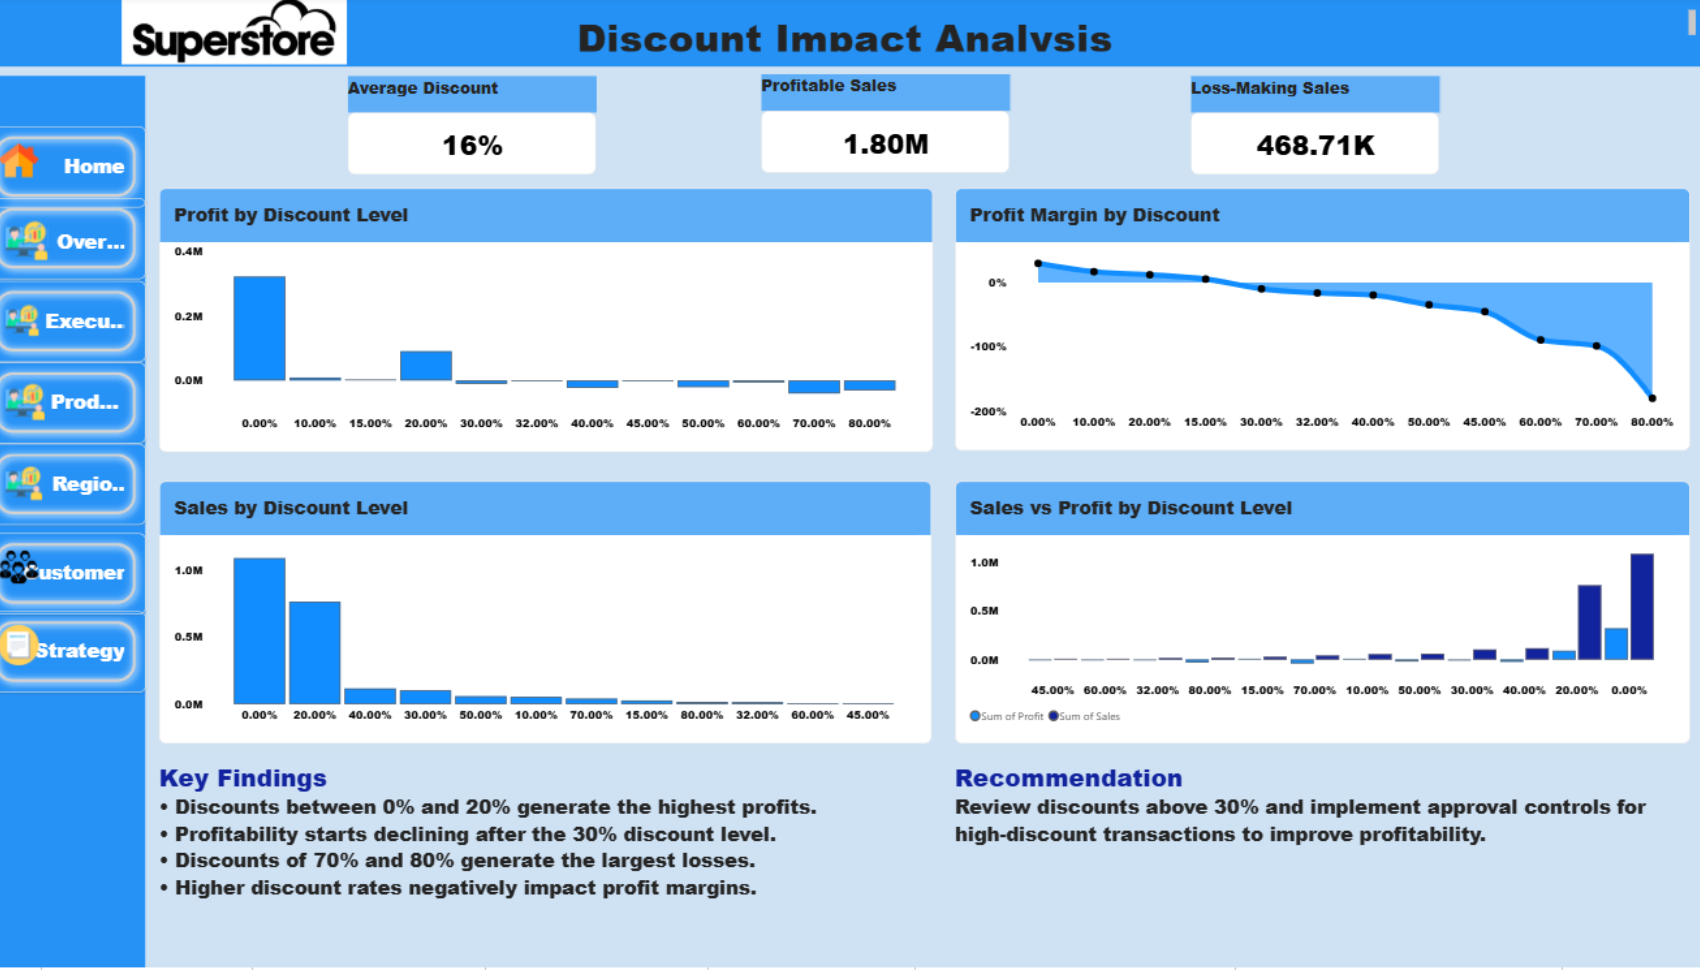

Layout of this report page (visuals, bound fields, positions):
{"tool":"powerbi","page":{"name":"Discount Analysis","canvas":[1920,1080],"ordinal":3},"visuals":[{"type":"cardVisual","title":"Average Discount","fields":{"Data":["Sample - Superstore.Avg Discount"]},"box":[402.8,88.9,276.7,110],"z":0},{"type":"cardVisual","title":"Loss-Making Sales","fields":{"Data":["Sample - Superstore.Loss-Making Sales"]},"box":[1340.3,88.9,276.7,110],"z":1000},{"type":"cardVisual","title":"Profitable Sales","fields":{"Data":["Sample - Superstore.Profitable Sales"]},"box":[862.5,87.5,276.7,110],"z":2000},{"type":"textbox","box":[0,0,1919.4,79.2],"z":3000},{"type":"clusteredColumnChart","title":"Profit by Discount Level","fields":{"Category":["Sample - Superstore.Discount"],"Y":["Sum(Sample - Superstore.Profit)"]},"box":[194.5,214.3,860.9,293.6],"z":4000},{"type":"clusteredColumnChart","title":"Sales by Discount Level","fields":{"Category":["Sample - Superstore.Discount"],"Y":["Sum(Sample - Superstore.Sales)"]},"box":[194.5,538.5,859.1,291.8],"z":5000},{"type":"lineChart","fields":{"Category":["Sample - Superstore.Discount"],"Y":["Sample - Superstore.Profit Margin"]},"box":[1078.9,214.3,817.7,291.8],"z":6000},{"type":"clusteredColumnChart","title":"Sales vs Profit by Discount Level","fields":{"Category":["Sample - Superstore.Discount"],"Y":["Sum(Sample - Superstore.Profit)","Sum(Sample - Superstore.Sales)"]},"box":[1078.9,538.5,817.7,291.8],"z":7000},{"type":"textbox","box":[194.5,848.3,859.1,232.3],"z":8000},{"type":"textbox","box":[1078.9,848.3,817.7,232.3],"z":9000},{"type":"image","box":[70.8,0,413.9,76.4],"z":10000},{"type":"textbox","box":[0,88.3,178.3,992.4],"z":11000},{"type":"group","id":"g1","title":"Group 1","box":[0,144.1,178.3,630.4],"z":12000},{"type":"actionButton","box":[0,144.1,179.1,90],"z":23000,"group":"g1"},{"type":"actionButton","box":[0,223.3,179.1,90],"z":24000,"group":"g1"},{"type":"actionButton","box":[0,497.2,179.1,90],"z":25000,"group":"g1"},{"type":"actionButton","box":[0,684.2,179.1,90],"z":26000,"group":"g1"},{"type":"actionButton","box":[0,316.8,179.1,90],"z":27000,"group":"g1"},{"type":"actionButton","box":[0,407,179.1,90],"z":28000,"group":"g1"},{"type":"actionButton","box":[0,595.7,179.1,90],"z":29000,"group":"g1"}]}

Visuals, with their boxes in screenshot pixels (x1, y1, x2, y2), scaled from the page's 1920x1080 canvas onto the 1700x970 screenshot:
"Average Discount" cardVisual: crop(357, 80, 602, 179)
"Loss-Making Sales" cardVisual: crop(1187, 80, 1432, 179)
"Profitable Sales" cardVisual: crop(764, 79, 1009, 177)
textbox: crop(0, 0, 1699, 71)
"Profit by Discount Level" clusteredColumnChart: crop(172, 192, 934, 456)
"Sales by Discount Level" clusteredColumnChart: crop(172, 484, 933, 746)
lineChart - Sample - Superstore.Discount x Sample - Superstore.Profit Margin: crop(955, 192, 1679, 455)
"Sales vs Profit by Discount Level" clusteredColumnChart: crop(955, 484, 1679, 746)
textbox: crop(172, 762, 933, 969)
textbox: crop(955, 762, 1679, 969)
image: crop(63, 0, 429, 69)
textbox: crop(0, 79, 158, 969)
"Group 1" group: crop(0, 129, 158, 696)
actionButton: crop(0, 129, 159, 210)
actionButton: crop(0, 201, 159, 281)
actionButton: crop(0, 447, 159, 527)
actionButton: crop(0, 615, 159, 695)
actionButton: crop(0, 285, 159, 365)
actionButton: crop(0, 366, 159, 446)
actionButton: crop(0, 535, 159, 616)
